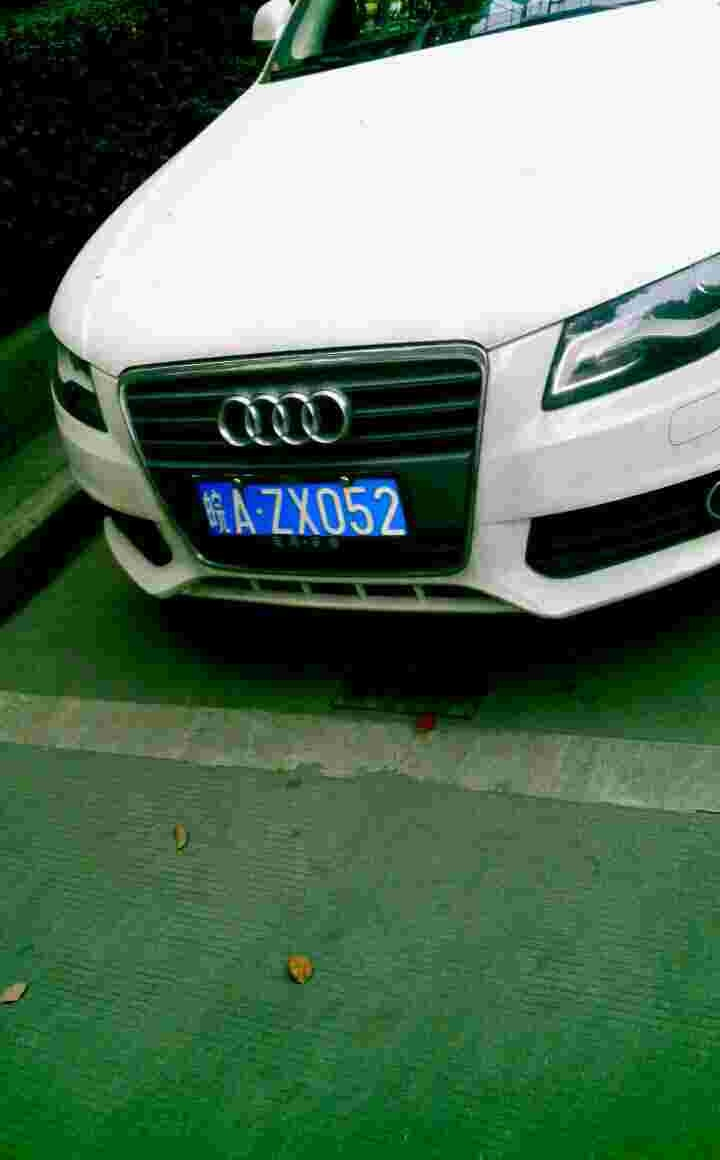license_plate: (195, 474, 402, 542)
